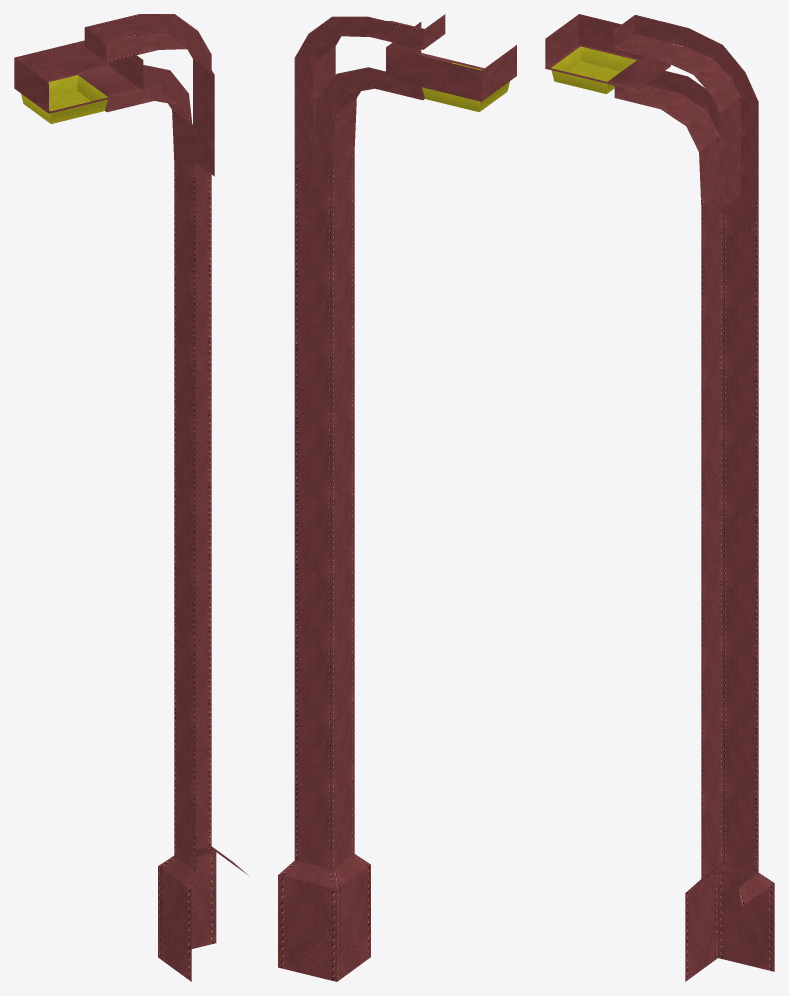
The model's file is stage-sanf-p8-172.glb.
3 views of the same model, side by side, from view 1: azimuth 30°, elevation 25°; view 2: azimuth 150°, elevation 25°; view 3: azimuth 330°, elevation 25° (orthographic). The views are drawn at different scales.
Size of the model in its own units: 3 by 13.6 by 0.8967.
Materials: 2 (2 with a texture image).
